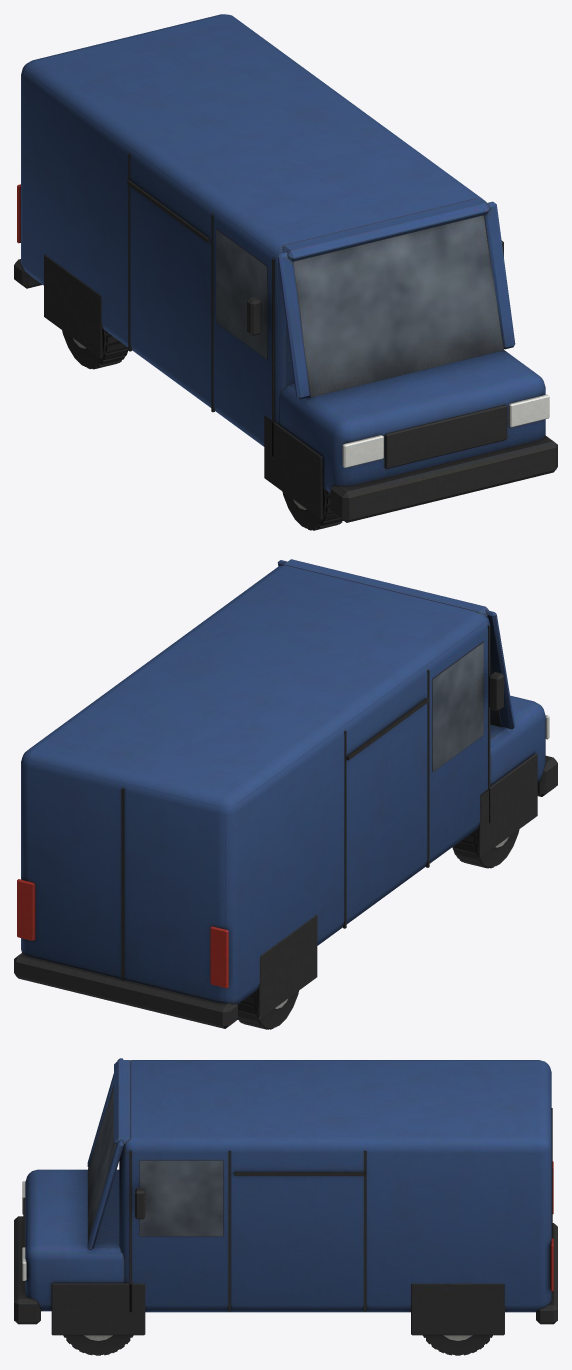
File: van_blue.glb
3 renders of one model, top to bottom at view 1: azimuth 30°, elevation 25°; view 2: azimuth 150°, elevation 25°; view 3: azimuth 270°, elevation 25°, orthographic. The views are drawn at different scales.
Visible parts, largest first — view 1: van_blue; view 2: van_blue; view 3: van_blue.
Boxes of the visible parts, bbox=[...] form: van_blue: bbox=[14, 14, 557, 530]; van_blue: bbox=[14, 559, 557, 1029]; van_blue: bbox=[14, 1058, 557, 1355].
Size of the model in its own units: 2.29 by 2.31 by 5.22.
1 material, 1 textured.
